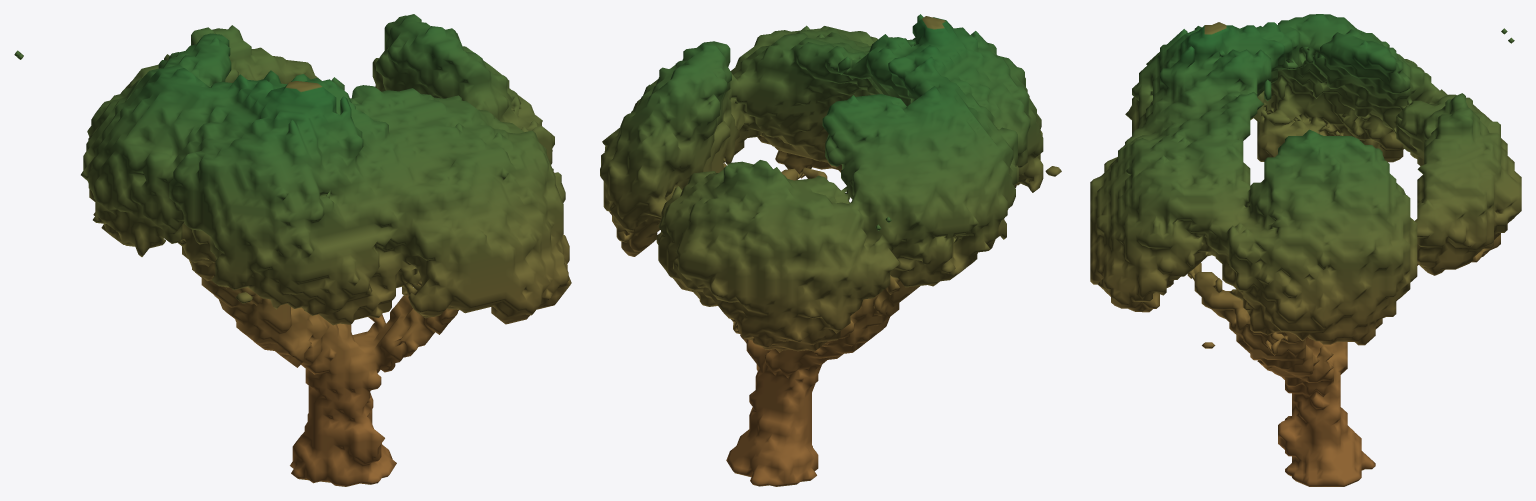
Rendered from gen1_colored.obj.
The picture shows the model from 3 angles, left to right: view 1: azimuth 30°, elevation 25°; view 2: azimuth 150°, elevation 25°; view 3: azimuth 270°, elevation 25°; orthographic projection. The views are drawn at different scales.
Size of the model in its own units: 61 by 63 by 62.
1 material, 1 textured.
